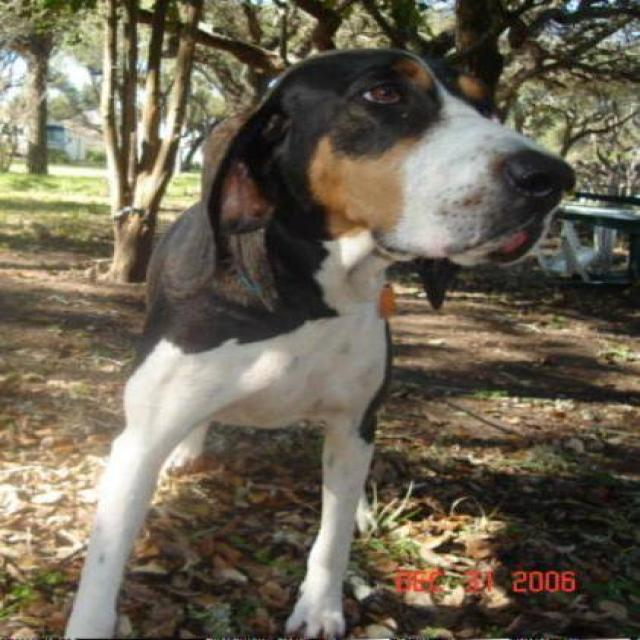dog: (59, 45, 576, 639)
